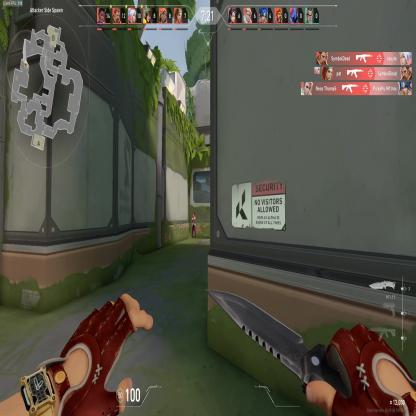enemy: (191, 210, 196, 238)
